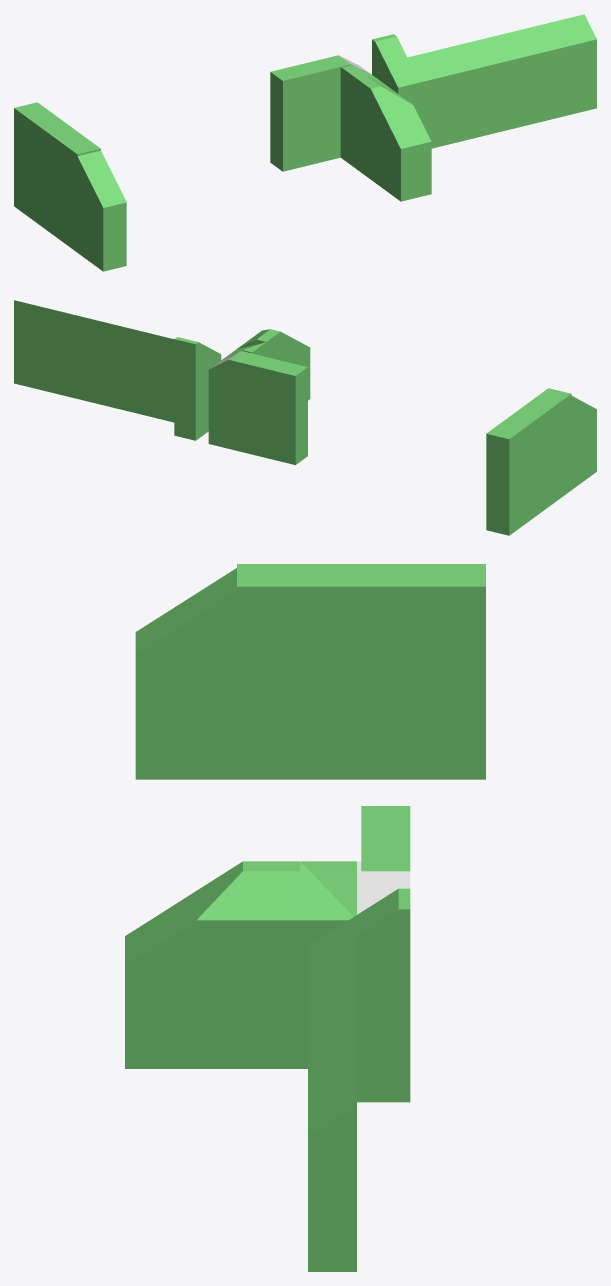
The model's file is RB05__Storey__SecondFloor__ProposedFixtures__MeshModel__.glb.
The picture shows the model from 3 angles, top to bottom: view 1: azimuth 30°, elevation 25°; view 2: azimuth 150°, elevation 25°; view 3: azimuth 270°, elevation 25°; orthographic projection. The views are drawn at different scales.
Parts seen in each view (by area): view 1: 27__ProposedBuilding__Fixtures::MAT014__ForDiscussion__Green; view 2: 27__ProposedBuilding__Fixtures::MAT014__ForDiscussion__Green; view 3: 27__ProposedBuilding__Fixtures::MAT014__ForDiscussion__Green, 27__ProposedBuilding__Fixtures::Default.
Part boxes in pixels (x1,y1,x2,y2): 27__ProposedBuilding__Fixtures::MAT014__ForDiscussion__Green: (14, 14, 596, 271); 27__ProposedBuilding__Fixtures::MAT014__ForDiscussion__Green: (14, 300, 596, 535); 27__ProposedBuilding__Fixtures::MAT014__ForDiscussion__Green: (125, 564, 485, 1271); 27__ProposedBuilding__Fixtures::Default: (357, 861, 410, 914).
Size of the model in its own units: 14.88 by 2.6 by 4.41.
